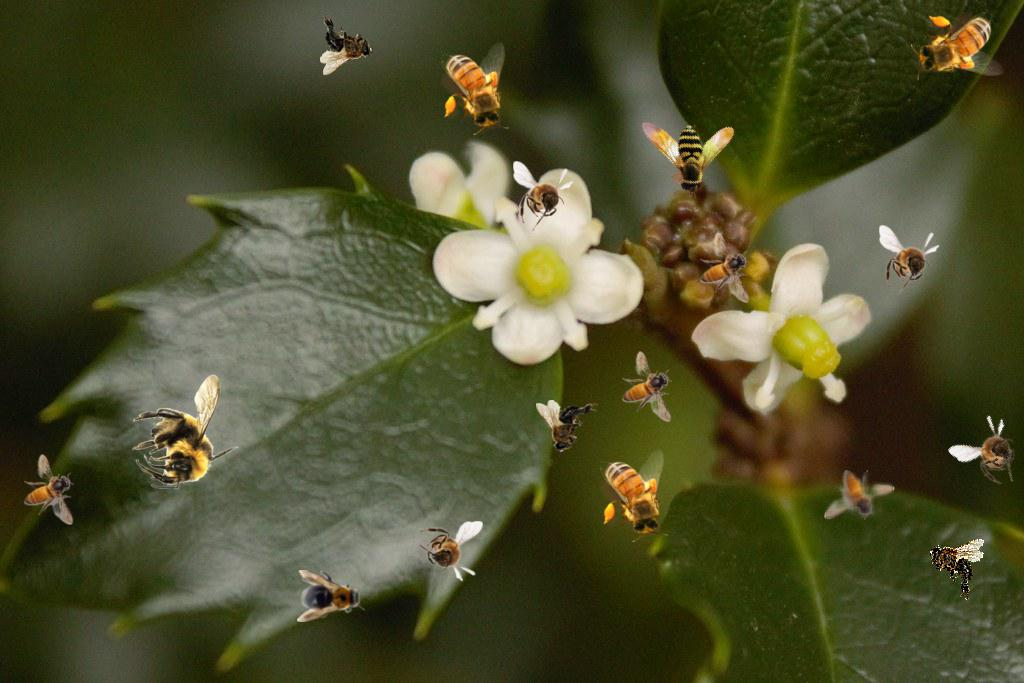Bee: (623, 82, 743, 202), (132, 374, 239, 489), (947, 405, 1024, 497), (441, 42, 509, 135), (911, 12, 1004, 80), (600, 449, 668, 542), (919, 527, 988, 601), (513, 161, 574, 231), (879, 225, 940, 295), (413, 521, 483, 582), (24, 454, 74, 525), (622, 351, 672, 422), (700, 232, 750, 303), (824, 470, 895, 520), (297, 570, 365, 622), (536, 400, 598, 453), (320, 13, 373, 75)
